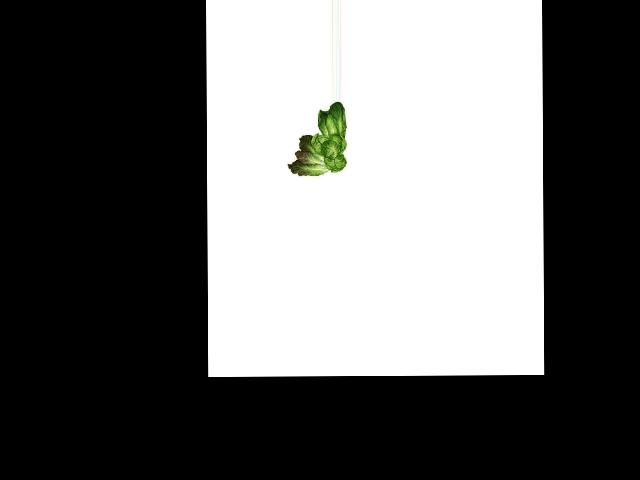lettuce: (283, 101, 350, 177)
